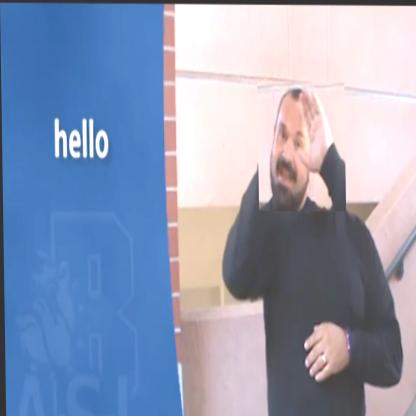Hello: (257, 81, 345, 211)
